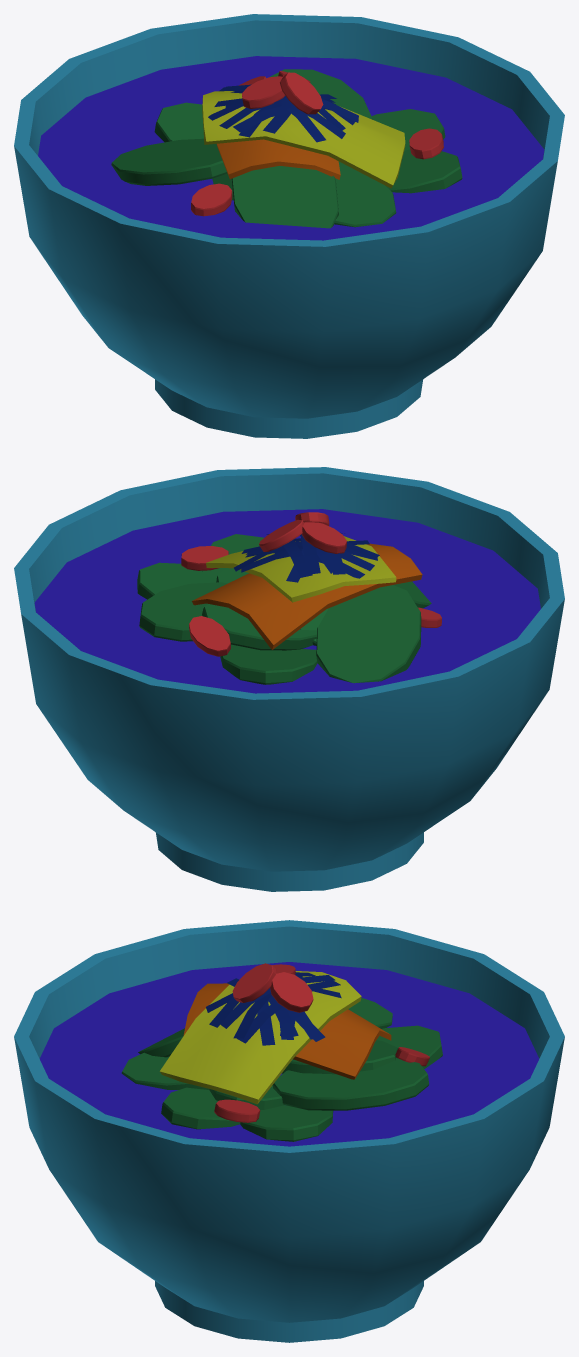
Rendered from Tteokguk.fbx.
3 renders of one model, top to bottom at view 1: azimuth 30°, elevation 25°; view 2: azimuth 150°, elevation 25°; view 3: azimuth 270°, elevation 25°, orthographic.
Visible parts, largest first — view 1: Tteokguk; view 2: Tteokguk; view 3: Tteokguk.
Part boxes in pixels (<box>): Tteokguk: <box>14,14,564,438</box>; Tteokguk: <box>14,467,564,891</box>; Tteokguk: <box>14,920,564,1342</box>.
Bounding box in the file's own units: 41.58 × 41.58 × 26.32.
